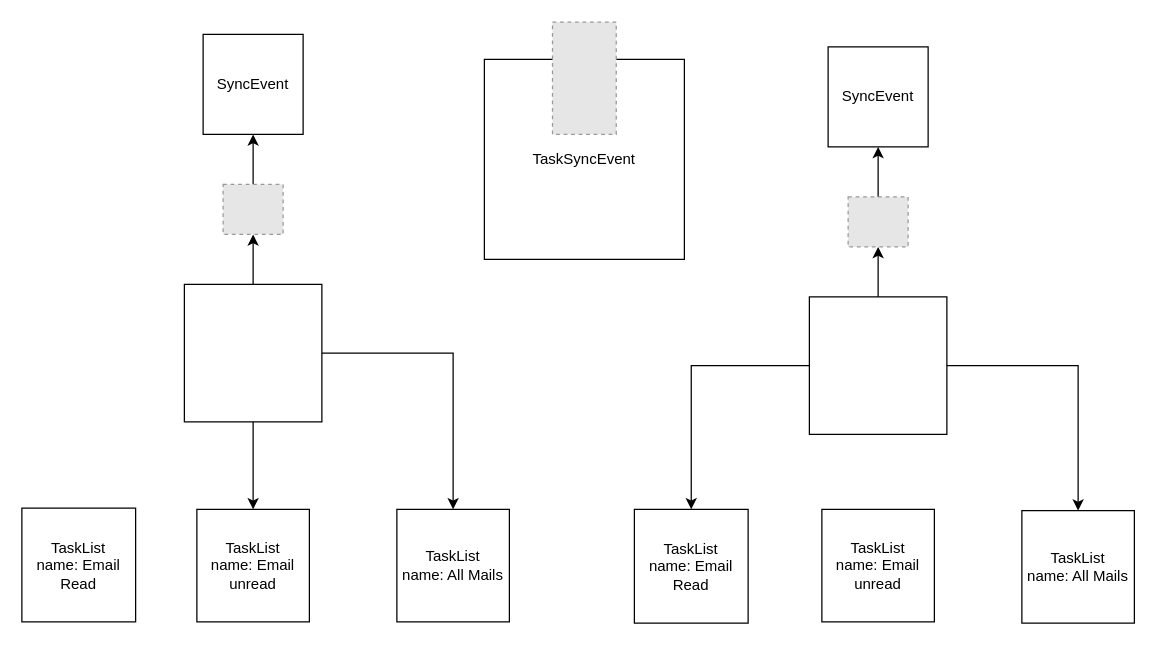
The diagram is 1156 pixels wide and 645 high, and some of its shapes have lost their labels. Grey dashed boxes stand in for pictures. Here are the shapes that lost their labels. From the top down, the centre of each, then its label:
At (252,352): "Task [TaskList: email unread, all mails]".
At (877,365): "Task [TaskList: email read, all mails]".
